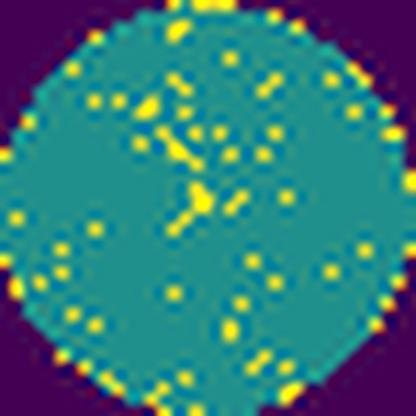Center: (166, 172, 217, 244)
